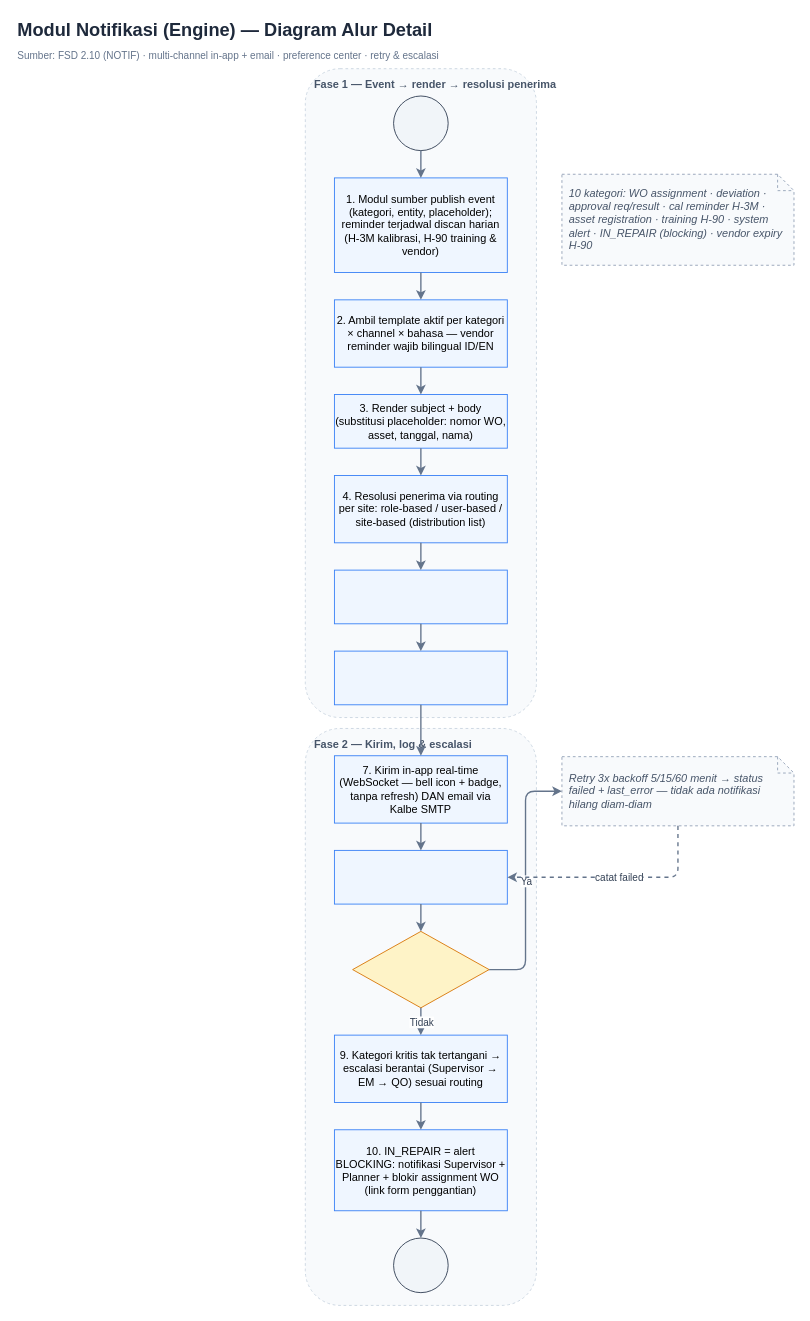
This 810x1321 diagram has some shape labels left out. The shapes that lost their labels are listed below. From the top down, each one's centre as x and y in pixels, then its label:
At (x=420, y=123): "Mulai (event / scheduler)".
At (x=420, y=596): "5. Cek preference center per user per kategori — opt-out → skip channel tsb".
At (x=420, y=677): "6. Bangun action link + signed JWT (TTL 7 hari, autentikasi SSO deep-link)".
At (x=420, y=876): "8. Tulis log per penerima per channel: status sent → delivered → read (UTC)".
At (x=420, y=969): "Gagal (SMTP/WebSocket)?".
At (x=420, y=1265): "Selesai".
